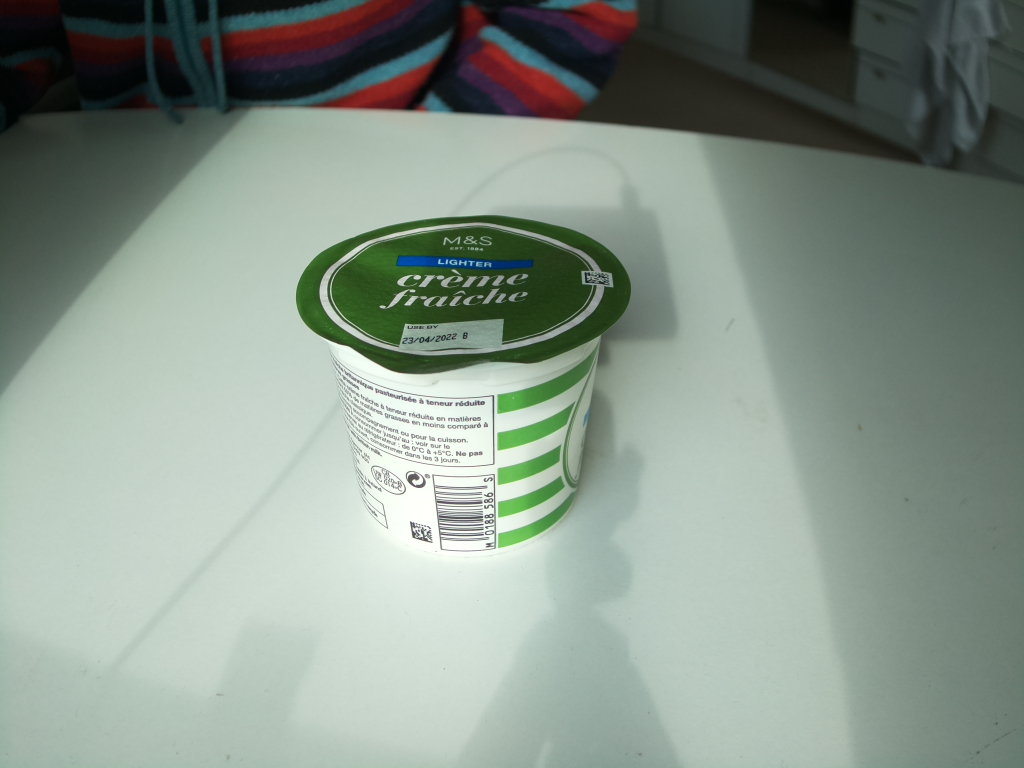cream: (305, 217, 642, 559)
